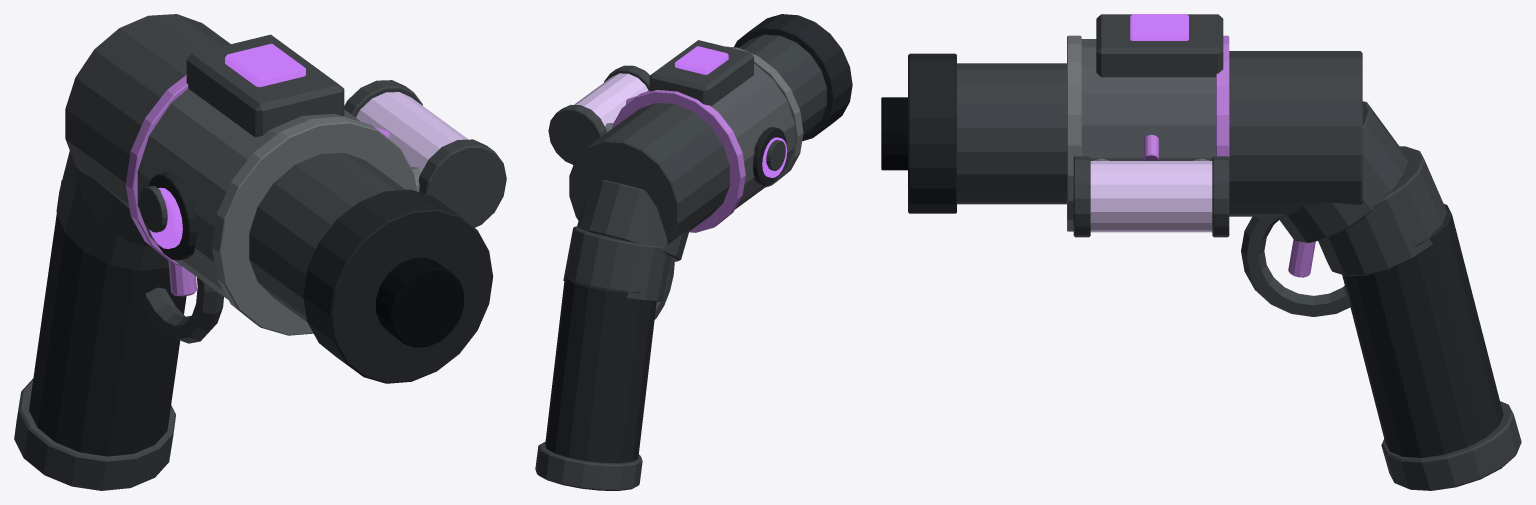
Rendered from TranquilizerPistol.glb.
3 renders of one model, left to right at view 1: azimuth 30°, elevation 25°; view 2: azimuth 150°, elevation 25°; view 3: azimuth 270°, elevation 25°, orthographic. The views are drawn at different scales.
Visible parts, largest first — view 1: FTF_Tool_TranquilizerPistol_RoundPurple_v2_Static; view 2: FTF_Tool_TranquilizerPistol_RoundPurple_v2_Static; view 3: FTF_Tool_TranquilizerPistol_RoundPurple_v2_Static.
Part boxes in pixels (box(x1,y1,x2,y2)): FTF_Tool_TranquilizerPistol_RoundPurple_v2_Static: box(14, 14, 506, 490); FTF_Tool_TranquilizerPistol_RoundPurple_v2_Static: box(535, 14, 852, 490); FTF_Tool_TranquilizerPistol_RoundPurple_v2_Static: box(881, 14, 1521, 490).
Size of the model in its own units: 0.621 by 1.02 by 1.31.
